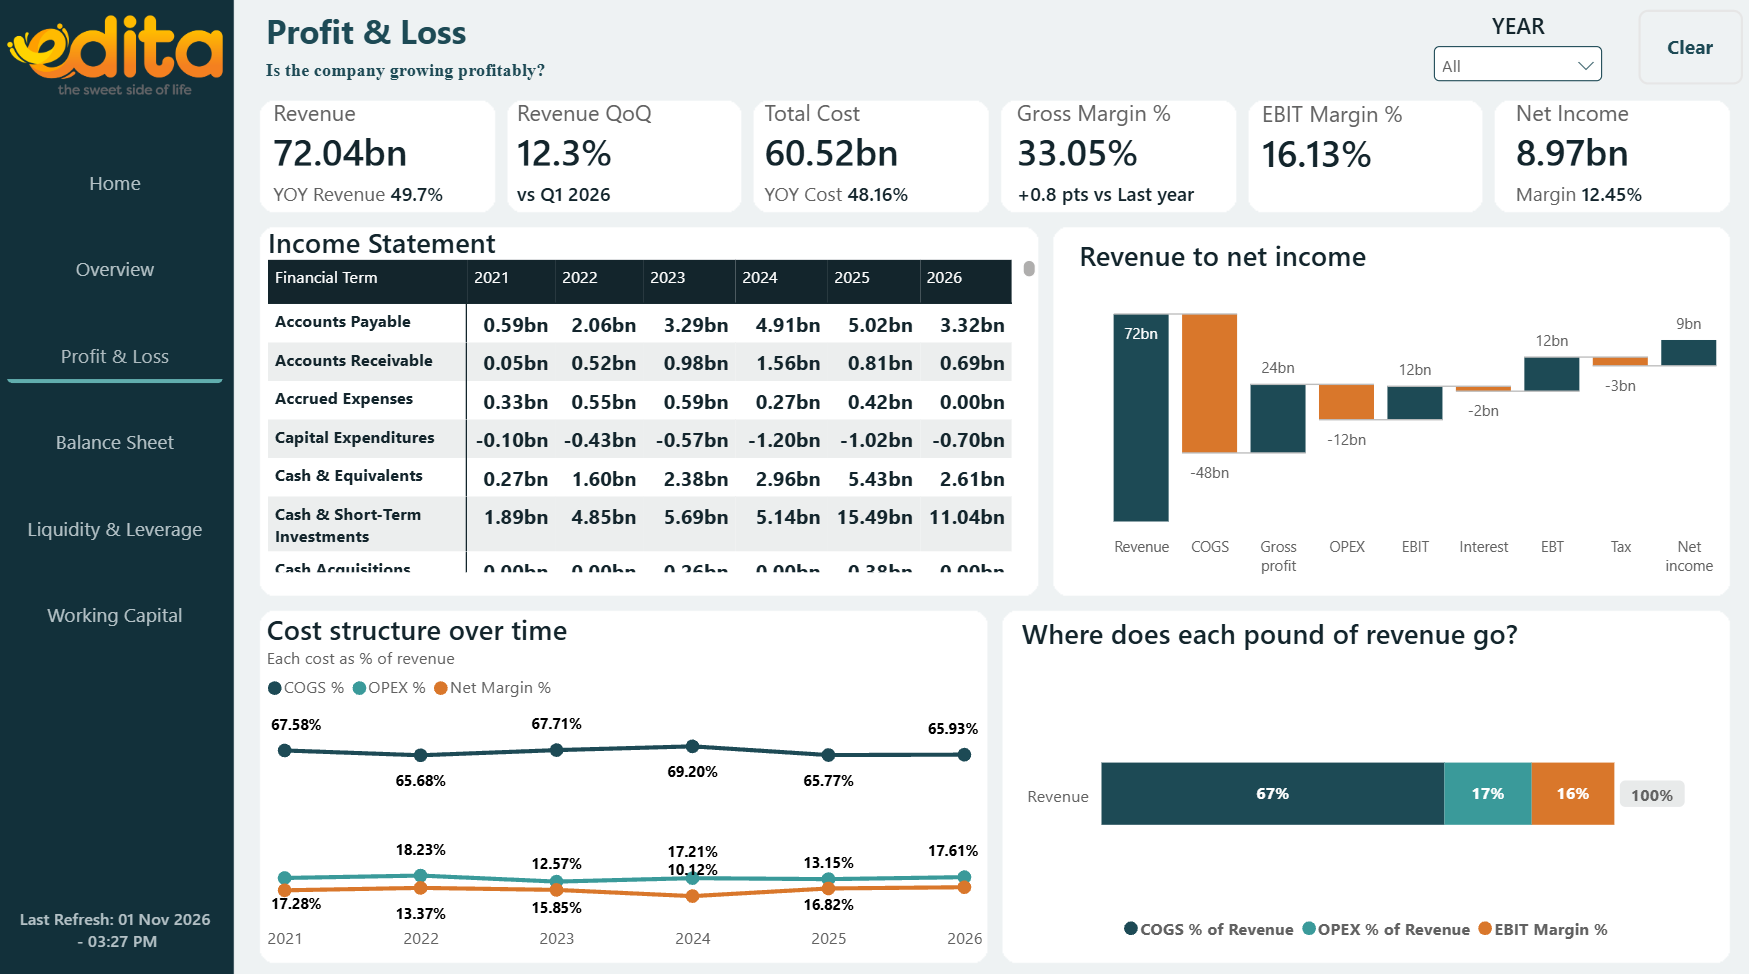

The dashboard page shown, as its layout file describes it:
{"tool":"powerbi","page":{"name":"Profit & Loss","canvas":[1280,720],"ordinal":2},"visuals":[{"type":"textbox","box":[196.3,9.1,261.7,38],"z":0},{"type":"textbox","box":[196.3,45.6,354.5,21.3],"z":1000},{"type":"card","fields":{"Values":["Measure_List.Last Refresh Display"]},"box":[0,640.6,173.3,79.3],"z":2000},{"type":"cardVisual","fields":{"Data":["Measure_List.Revenue"]},"box":[193.3,74.8,156.7,108.4],"z":4000},{"type":"cardVisual","fields":{"Data":["Measure_List.Revenue QoQ Card"]},"box":[370.5,74.7,180.1,108.4],"z":5000},{"type":"cardVisual","fields":{"Data":["Measure_List.Total Cost"]},"box":[551.3,74.8,156.7,108.4],"z":6000},{"type":"cardVisual","fields":{"Data":["Measure_List.Gross Margin %"]},"box":[734.2,74.3,191.9,109],"z":7000},{"type":"cardVisual","fields":{"Data":["Measure_List.EBIT Margin %"]},"box":[912.4,74.7,156.7,65.9],"z":8000},{"type":"cardVisual","fields":{"Data":["Measure_List.Net Income"]},"box":[1096.9,74.7,156.7,108.4],"z":9000},{"type":"pivotTable","title":"Income Statement","fields":{"Columns":["Dim_Calendar.Year"],"Rows":["Dim_Account.Financial Term"],"Values":["Measure_List.Value"]},"box":[181.6,159.5,590.2,276.1],"z":10000},{"type":"waterfallChart","title":"Revenue to net income","fields":{"Category":["P&L Bridge.Step"],"Y":["P&L Bridge.P&L Bridge Value"]},"box":[771.5,159.8,499.1,280],"z":11000},{"type":"lineChart","title":"Cost structure over time","fields":{"Category":["Dim_Calendar.Year"],"Y":["Measure_List.COGS % of Revenue","Measure_List.OPEX % of Revenue","Measure_List.Net Income Margin %"]},"box":[181.1,439.8,552.4,273.9],"z":12000},{"type":"barChart","title":"Where does each pound of revenue go?","fields":{"Category":["Revenue Split Axis.Label"],"Y":["Measure_List.COGS % of Revenue","Measure_List.OPEX % of Revenue","Measure_List.EBIT Margin %"]},"box":[730,435,537,272],"z":13000},{"type":"slicer","title":"YEAR","fields":{"Values":["Dim_Calendar.Year"]},"box":[1041.2,9.7,132.5,53.8],"z":14000},{"type":"actionButton","box":[1194.4,9.7,76,54.3],"z":15000},{"type":"pageNavigator","box":[0,108,173.3,374.6],"z":15001},{"type":"image","box":[8.6,11,157.1,63.8],"z":15002}]}

Visuals, with their boxes on the page's 1280x720 design canvas (x1, y1, x2, y2). These are canvas units, not pixel positions in the 1749x974 screenshot, which may show the page scaled, cropped or inside an application window:
textbox: [left=196, top=9, right=458, bottom=47]
textbox: [left=196, top=46, right=551, bottom=67]
card - Measure_List.Last Refresh Display: [left=0, top=641, right=173, bottom=720]
cardVisual - Measure_List.Revenue: [left=193, top=75, right=350, bottom=183]
cardVisual - Measure_List.Revenue QoQ Card: [left=370, top=75, right=551, bottom=183]
cardVisual - Measure_List.Total Cost: [left=551, top=75, right=708, bottom=183]
cardVisual - Measure_List.Gross Margin %: [left=734, top=74, right=926, bottom=183]
cardVisual - Measure_List.EBIT Margin %: [left=912, top=75, right=1069, bottom=141]
cardVisual - Measure_List.Net Income: [left=1097, top=75, right=1254, bottom=183]
"Income Statement" pivotTable: [left=182, top=160, right=772, bottom=436]
"Revenue to net income" waterfallChart: [left=772, top=160, right=1271, bottom=440]
"Cost structure over time" lineChart: [left=181, top=440, right=734, bottom=714]
"Where does each pound of revenue go?" barChart: [left=730, top=435, right=1267, bottom=707]
"YEAR" slicer: [left=1041, top=10, right=1174, bottom=64]
actionButton: [left=1194, top=10, right=1270, bottom=64]
pageNavigator: [left=0, top=108, right=173, bottom=483]
image: [left=9, top=11, right=166, bottom=75]
